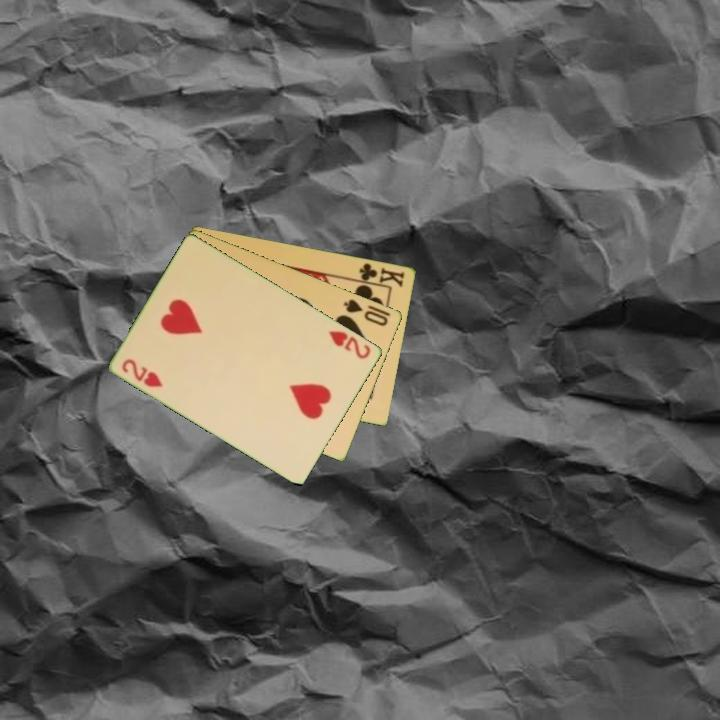10s: (340, 295, 391, 329)
2h: (326, 327, 374, 362), (118, 355, 166, 390)
Kc: (351, 259, 408, 290)
